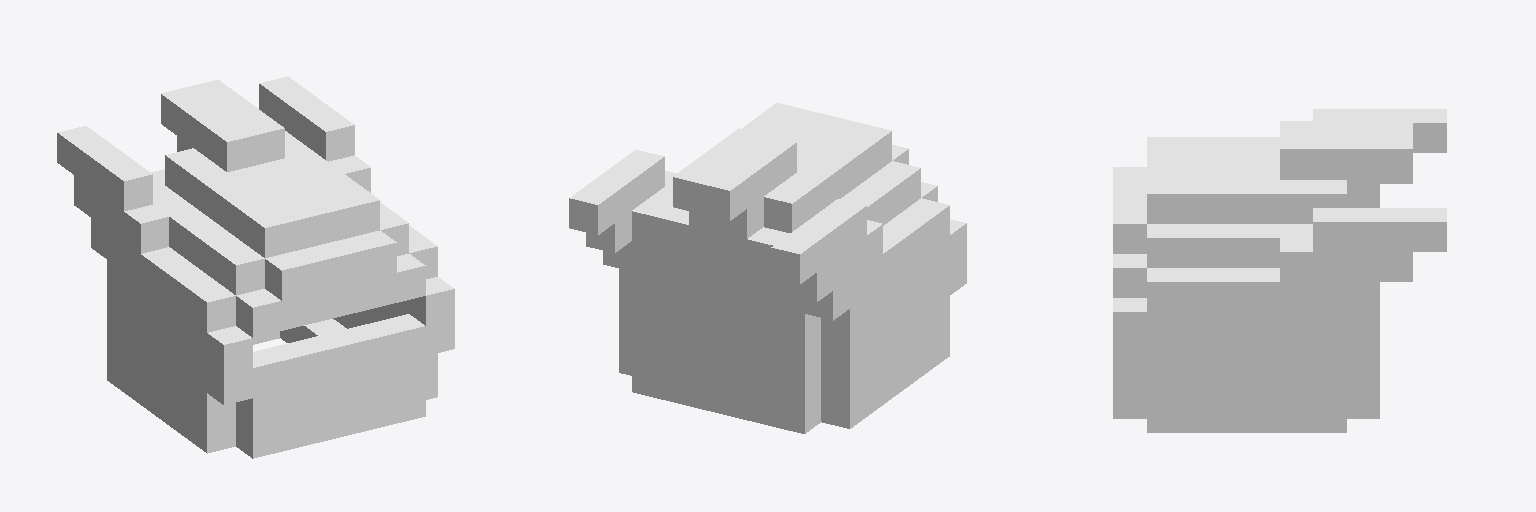
The model's file is Helmet.obj.
3 renders of one model, left to right at view 1: azimuth 30°, elevation 25°; view 2: azimuth 150°, elevation 25°; view 3: azimuth 270°, elevation 25°, orthographic.
Parts seen in each view (by area): view 1: object 1; view 2: object 1; view 3: object 1.
Part boxes in pixels (left/top/right/bottom): object 1: left=57, top=76, right=454, bottom=458; object 1: left=569, top=103, right=966, bottom=433; object 1: left=1113, top=109, right=1446, bottom=432.
Bounding box in the file's own units: 0.8 × 0.8 × 1.